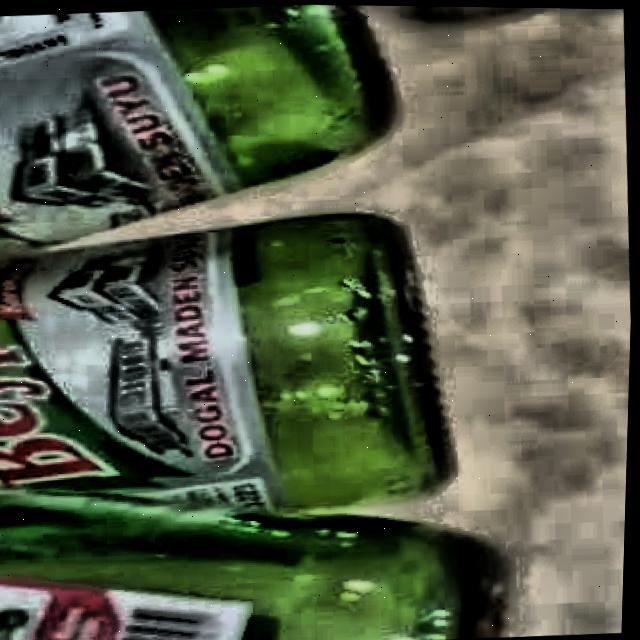glass: (0, 4, 515, 640)
